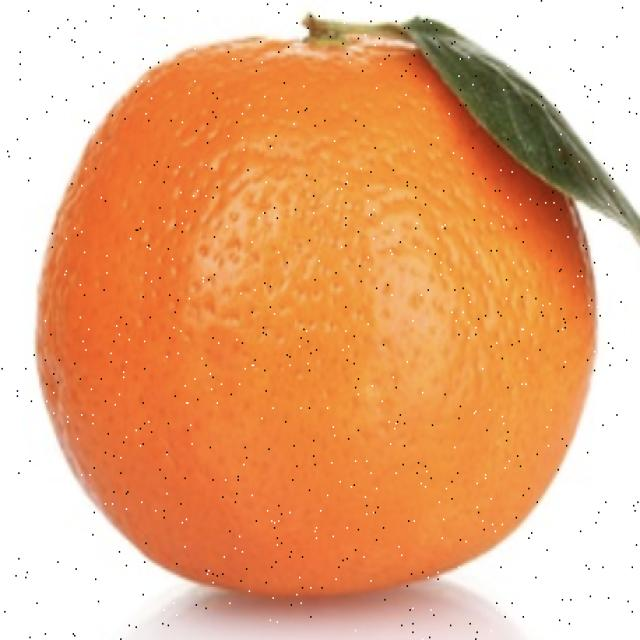orange: (36, 22, 601, 616)
